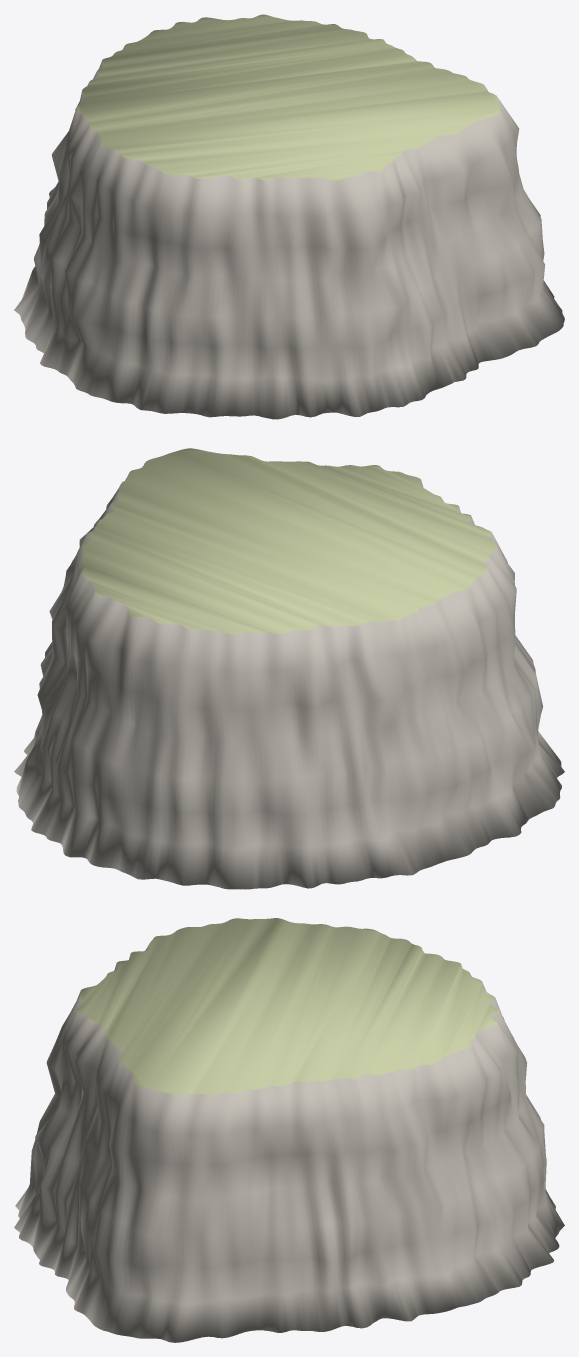
The model's file is cliff_0.glb.
3 renders of one model, top to bottom at view 1: azimuth 30°, elevation 25°; view 2: azimuth 150°, elevation 25°; view 3: azimuth 270°, elevation 25°, orthographic. The views are drawn at different scales.
Visible parts, largest first — view 1: cliff_0; view 2: cliff_0; view 3: cliff_0.
Part boxes in pixels (bbox=[...]): cliff_0: bbox=[14, 14, 564, 419]; cliff_0: bbox=[14, 448, 564, 889]; cliff_0: bbox=[14, 918, 564, 1342].
Bounding box in the file's own units: 15.78 × 7.03 × 15.86.
